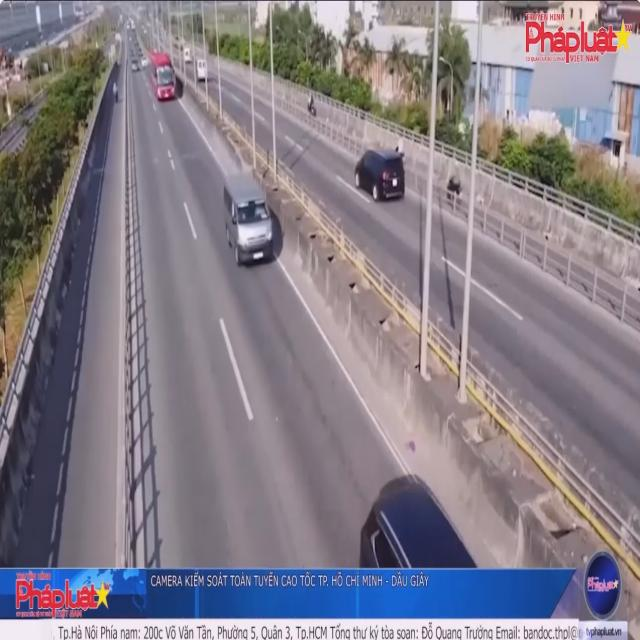bus: (151, 50, 178, 102)
car: (359, 468, 481, 569), (226, 181, 282, 266), (354, 142, 406, 205)
motorbike: (442, 154, 463, 204)
